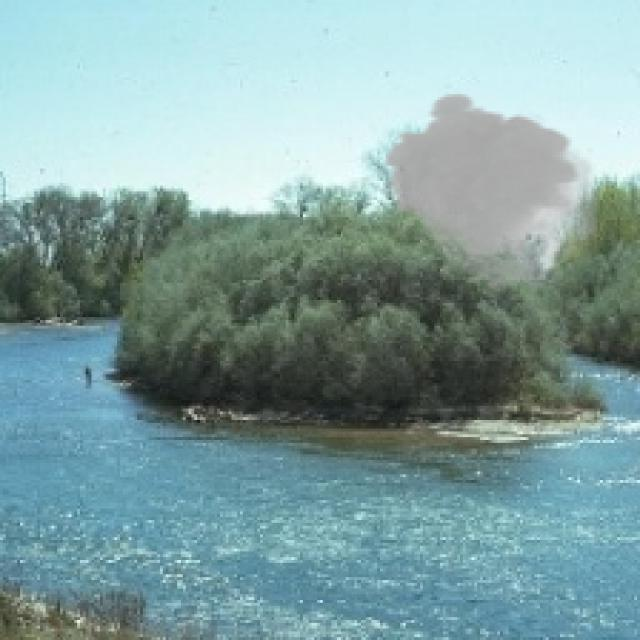smoke: (380, 91, 597, 300)
